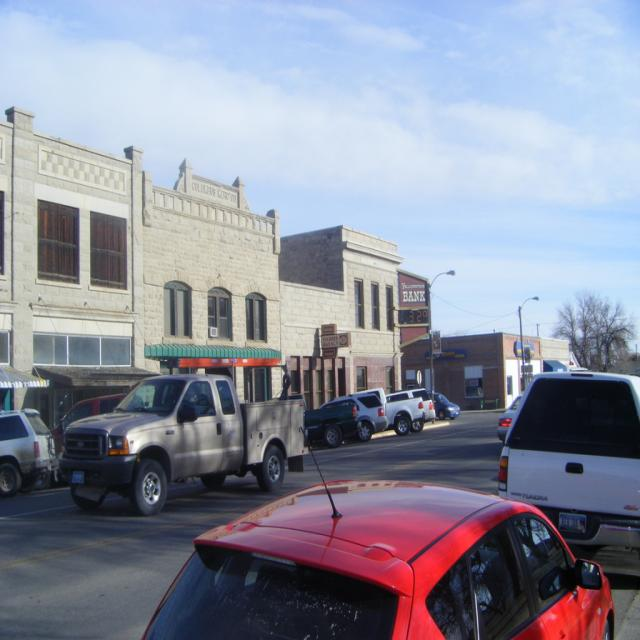Passenger Car: (140, 481, 618, 637)
Pickup Trucks: (61, 372, 306, 518), (501, 372, 640, 562)
